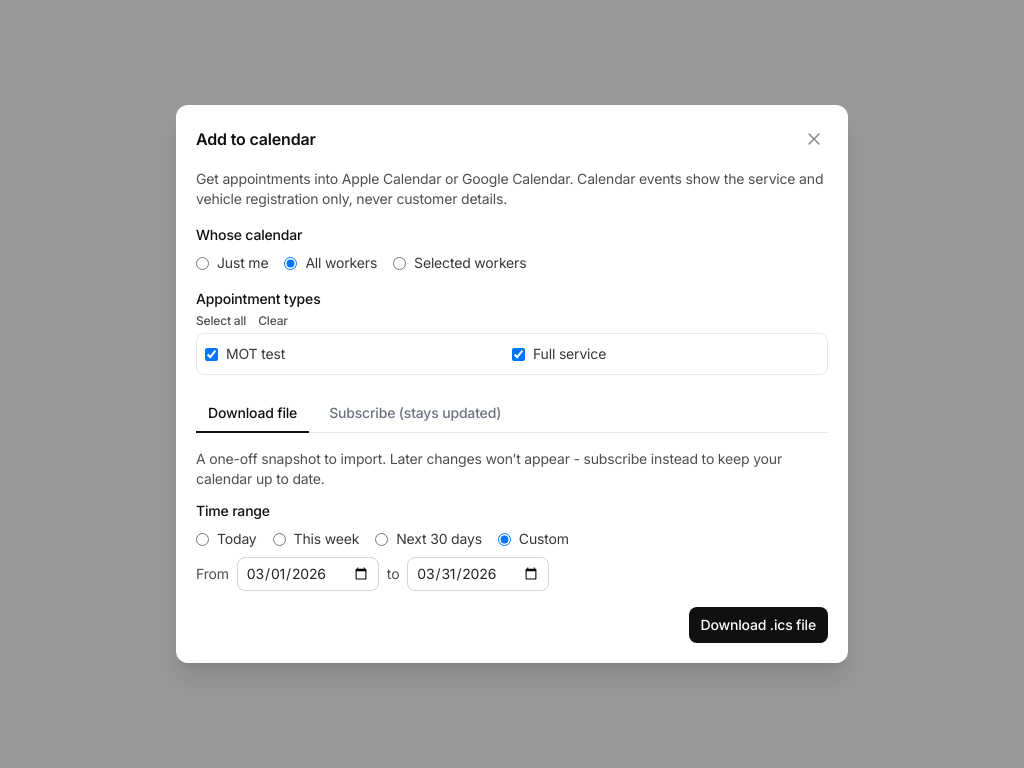
it: AddToCalendarDialog — download › sends the chosen workers and types, then saves the file
Click the radio button labelled "Selected workers": coordinates (400, 263) [393, 256, 406, 270]
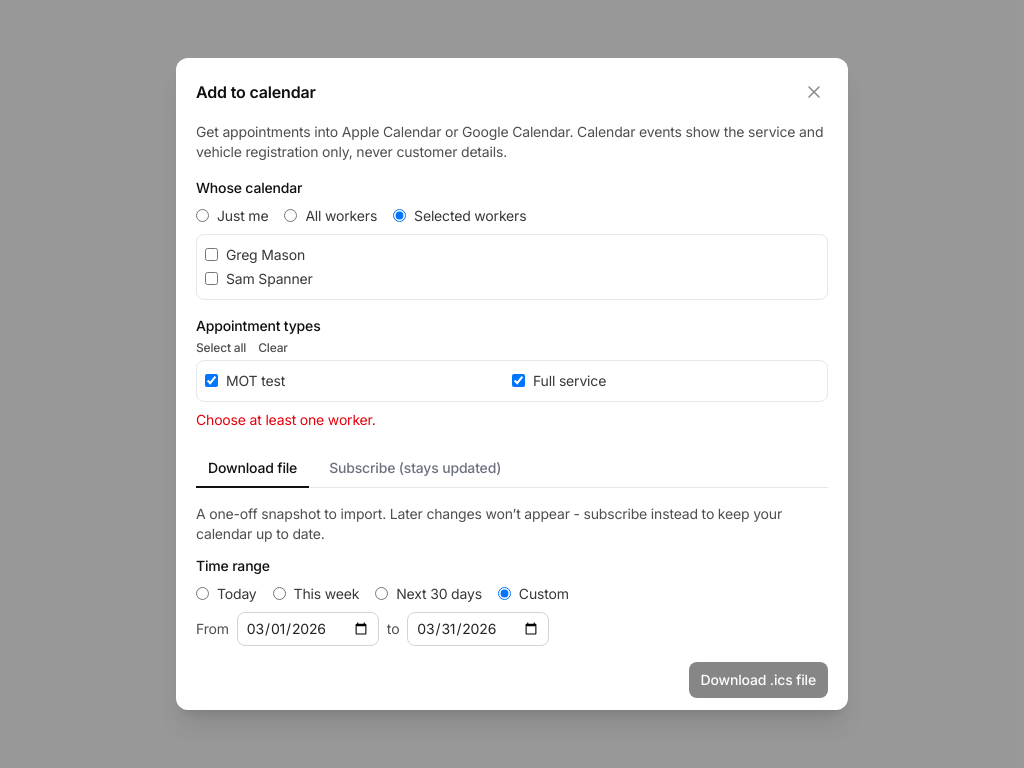
Click the checkbox labelled "Sam Spanner": coordinates (212, 279) [205, 272, 218, 285]
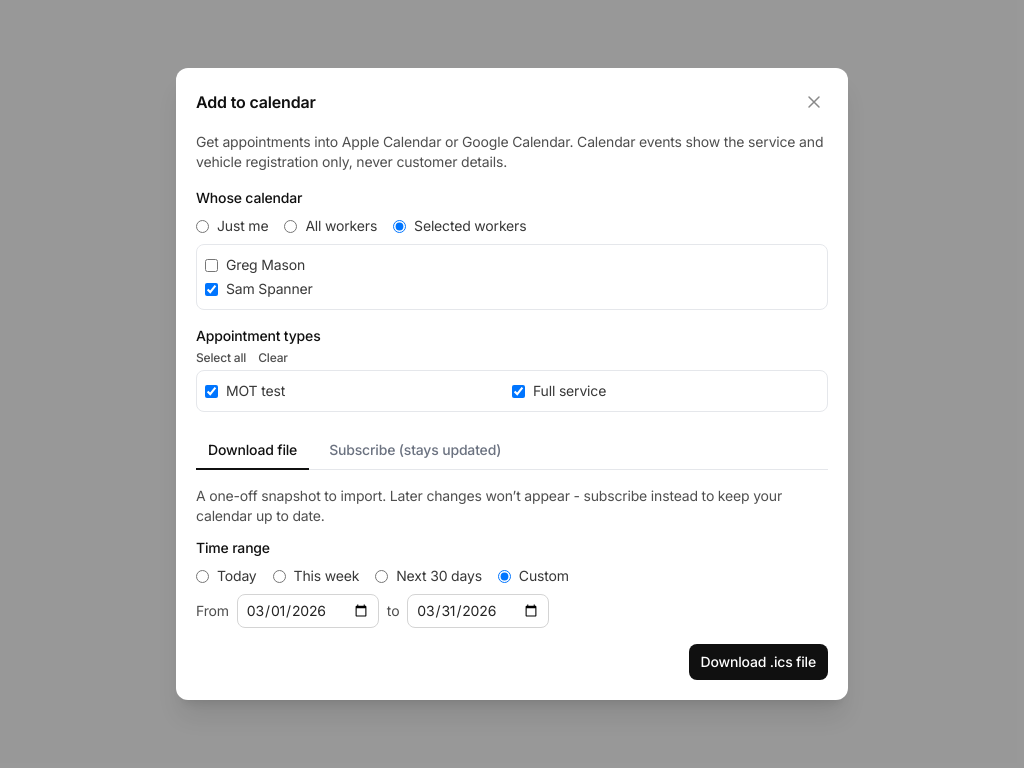
Click the checkbox labelled "Full service": coordinates (518, 391) [512, 384, 525, 398]
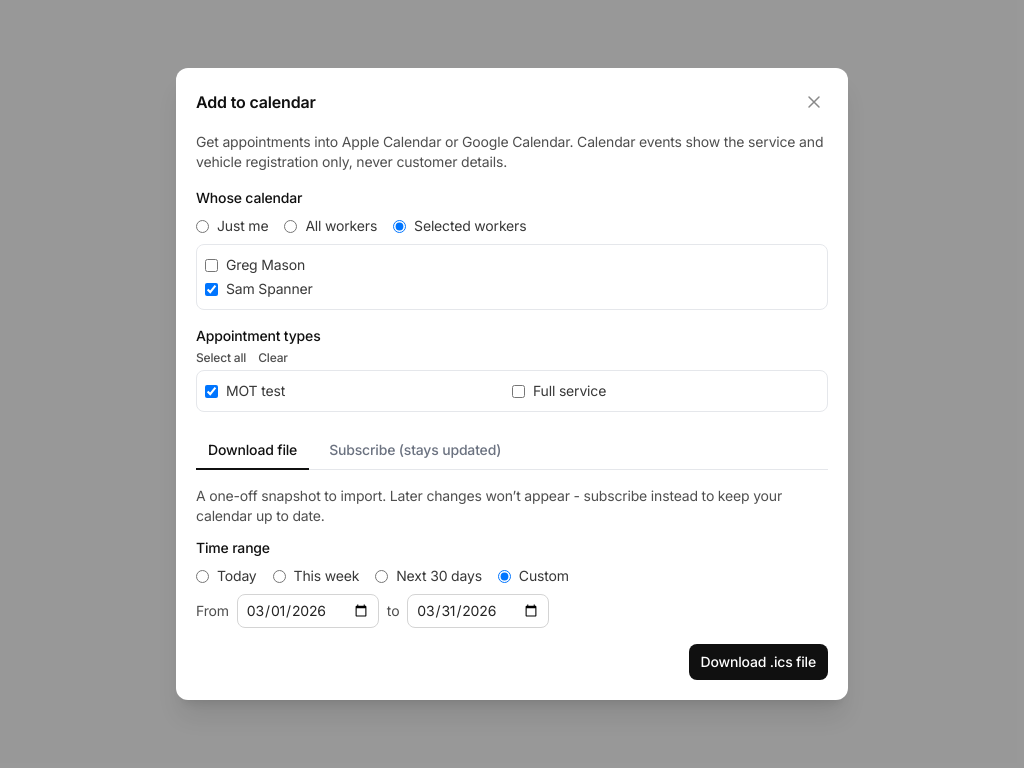
Click the button "Download .ics file": coordinates (758, 662) [689, 644, 828, 680]
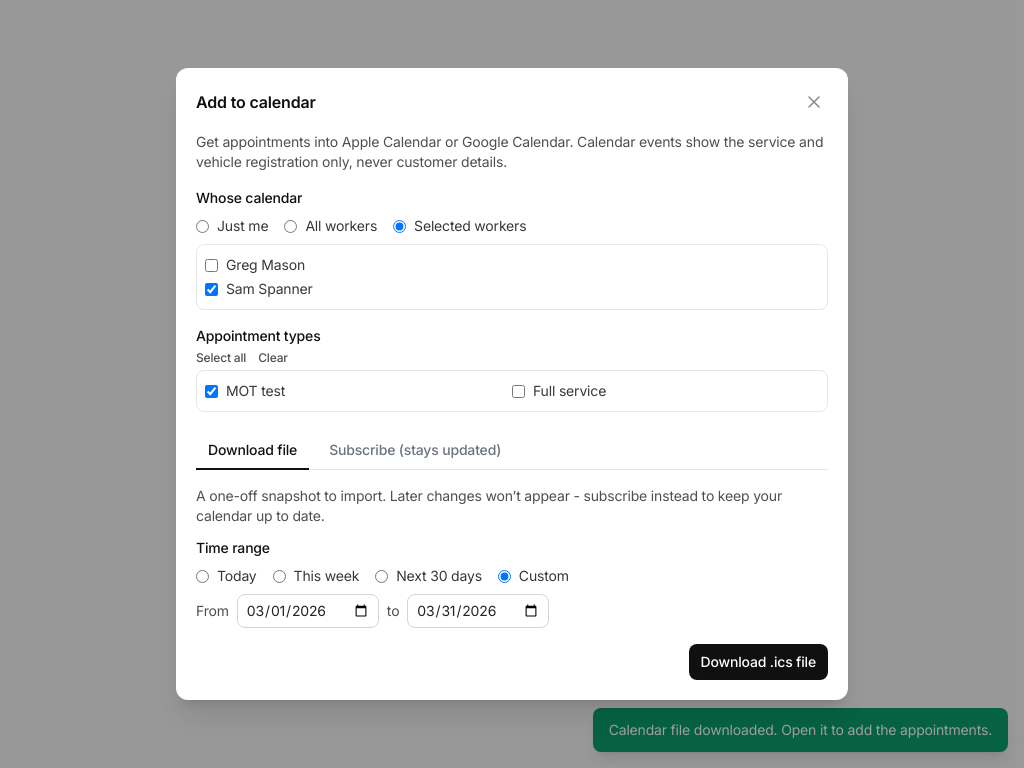
Check: the text "Calendar file downloaded. Open it to add the appointments." is shown, box [593, 708, 1008, 752]
